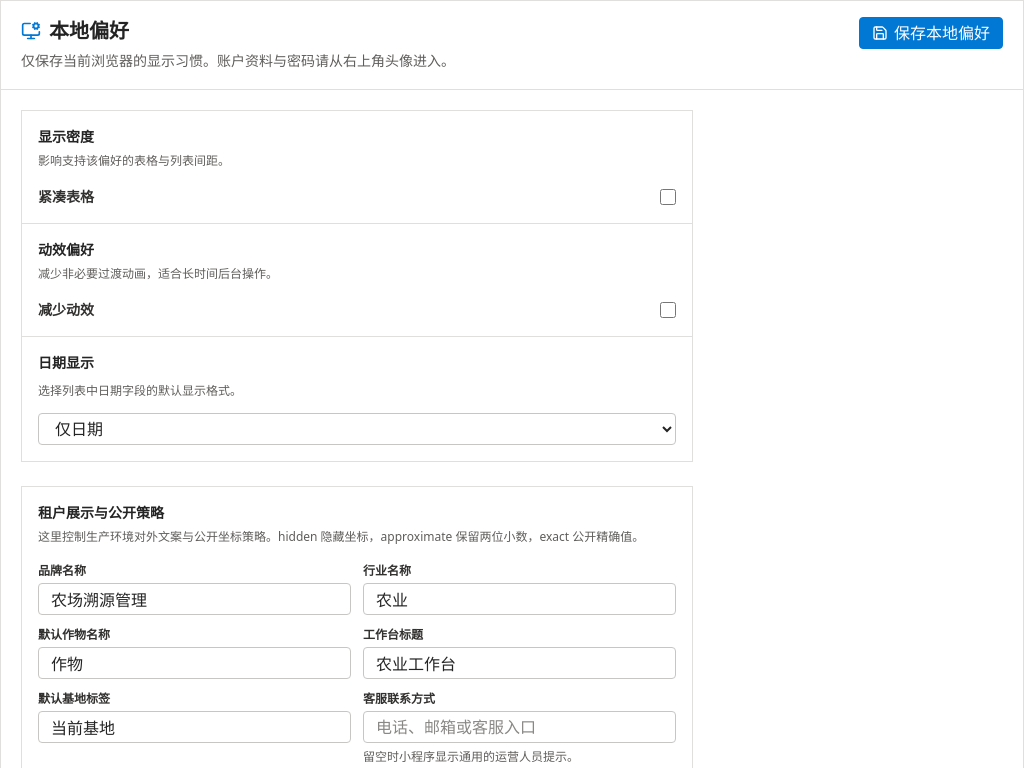
Settings production wording › saves only local display preferences
Click the checkbox labelled "紧凑表格" at (668, 197), box [660,189,676,205]
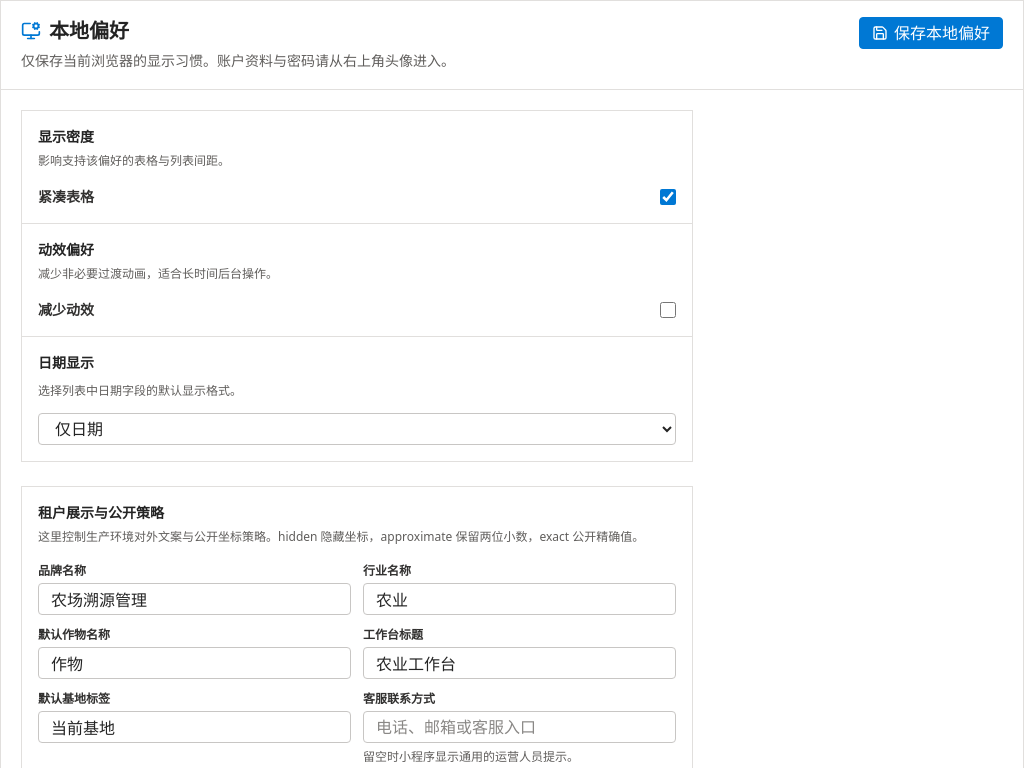
Click the button "保存本地偏好" at (931, 33), box [859,17,1003,49]
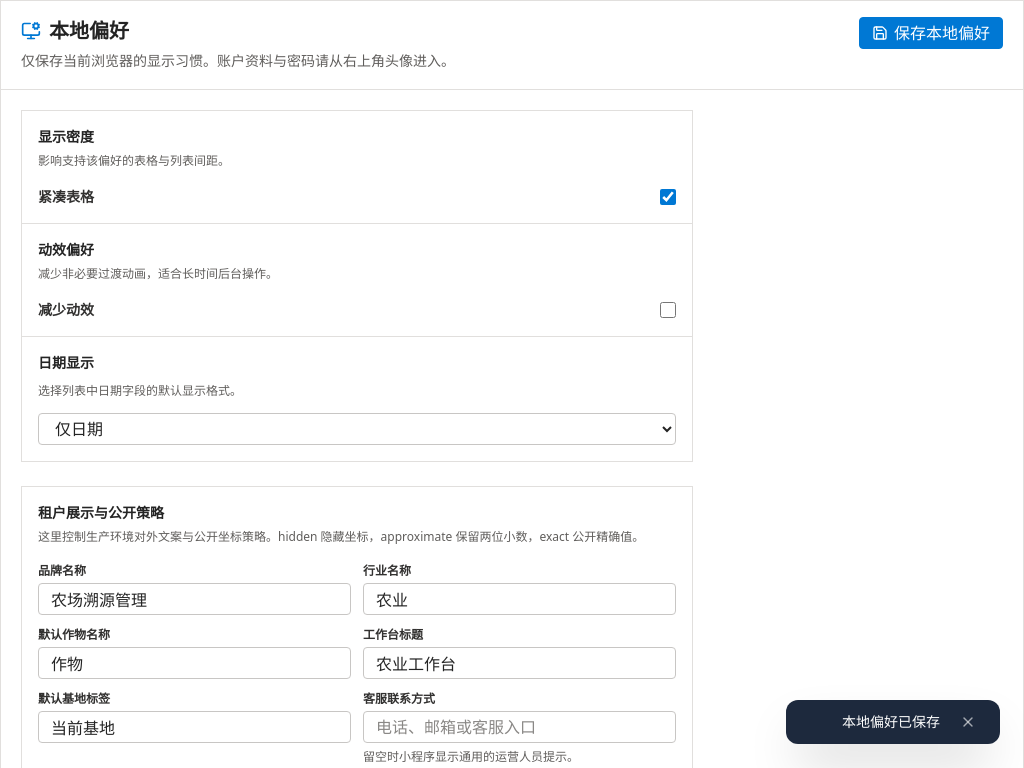
Expected: the text "本地偏好已保存" is shown, [842,712,940,732]
